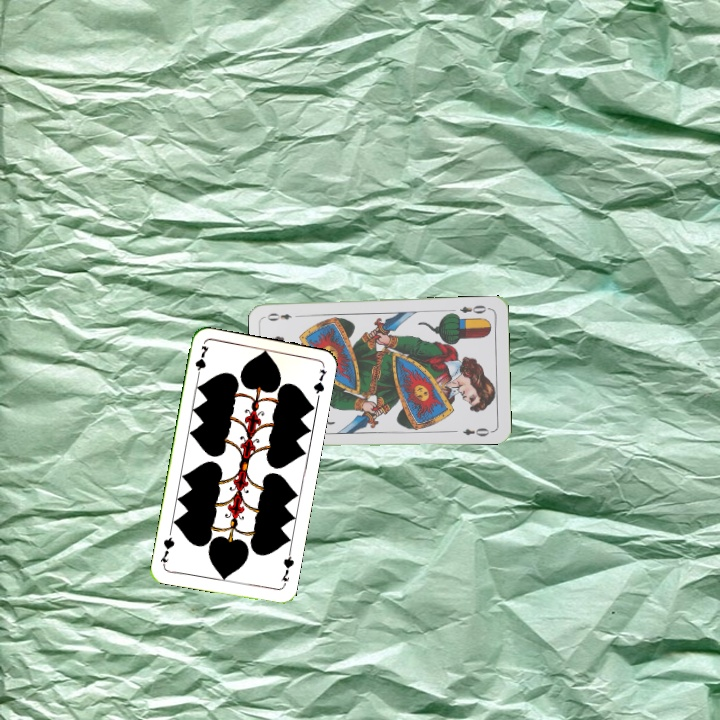EO: (456, 301, 492, 316)
G7: (191, 341, 211, 382), (277, 548, 297, 589)
